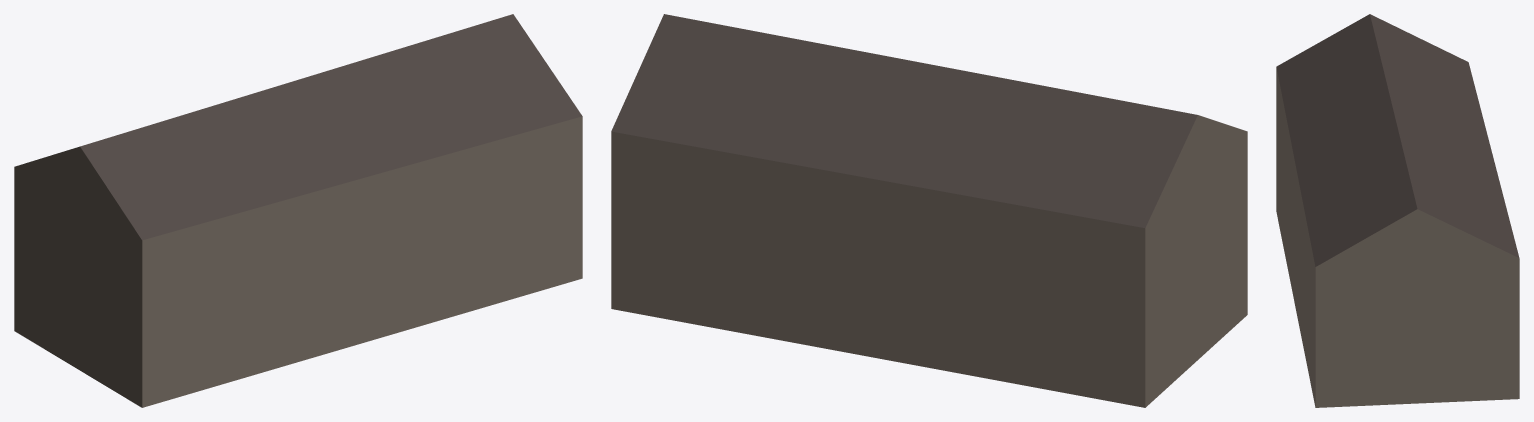
The picture shows the model from 3 angles, left to right: view 1: azimuth 30°, elevation 25°; view 2: azimuth 150°, elevation 25°; view 3: azimuth 270°, elevation 25°; orthographic projection. The views are drawn at different scales.
Visible parts, largest first — view 1: HP-w442103695; view 2: HP-w442103695; view 3: HP-w442103695.
Part boxes in pixels (x1,y1,x2,y2): HP-w442103695: (14,14,582,407); HP-w442103695: (611,14,1247,407); HP-w442103695: (1276,14,1519,407).
Bounding box in the file's own units: 27.86 × 12.43 × 14.08.
